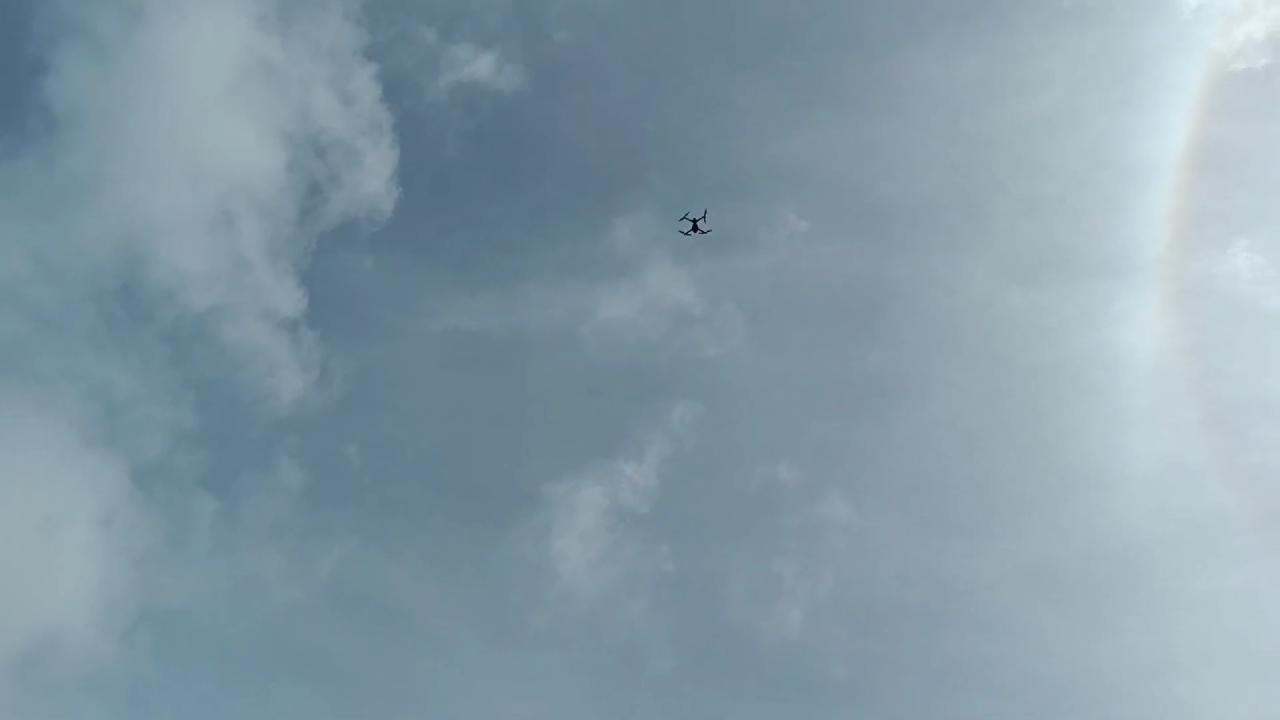Drone: (667, 200, 719, 244)
